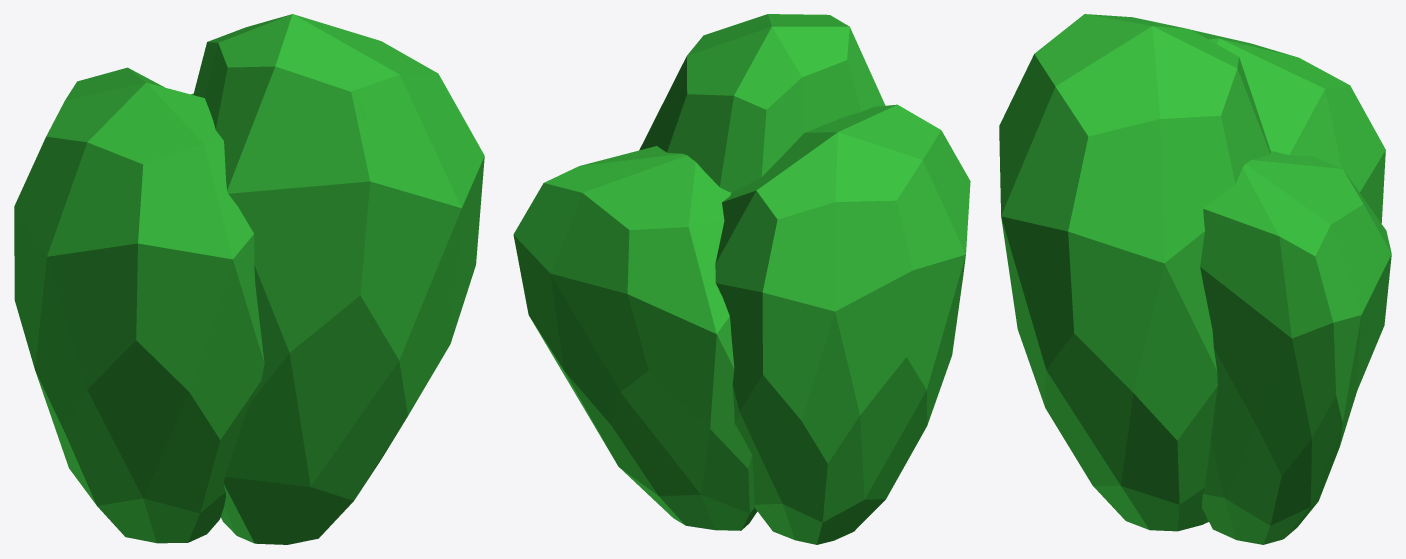
The model's file is Bush.fbx.
3 views of the same model, side by side, from view 1: azimuth 30°, elevation 25°; view 2: azimuth 150°, elevation 25°; view 3: azimuth 270°, elevation 25° (orthographic). The views are drawn at different scales.
Visible parts, largest first — view 1: Bush; view 2: Bush; view 3: Bush.
Part boxes in pixels (bbox=[...]): Bush: bbox=[14, 14, 484, 544]; Bush: bbox=[513, 14, 970, 544]; Bush: bbox=[999, 14, 1391, 544].
Bounding box in the file's own units: 27.22 × 31.3 × 22.57.
